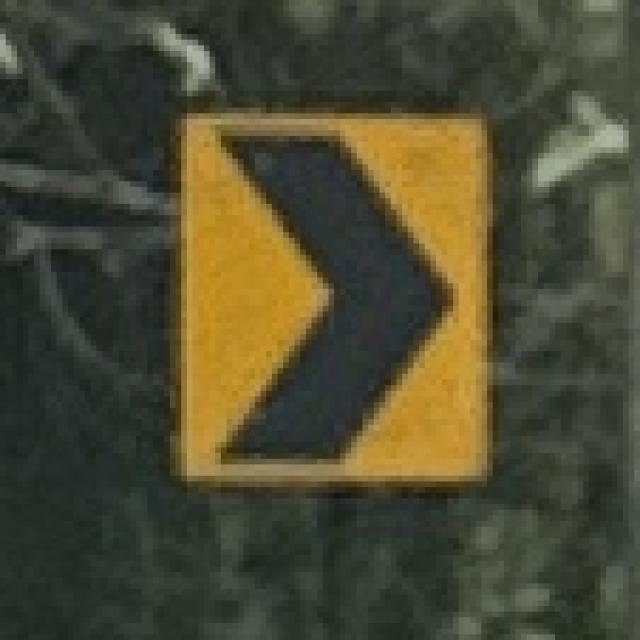TURN_RIGHT: (171, 107, 499, 491)
